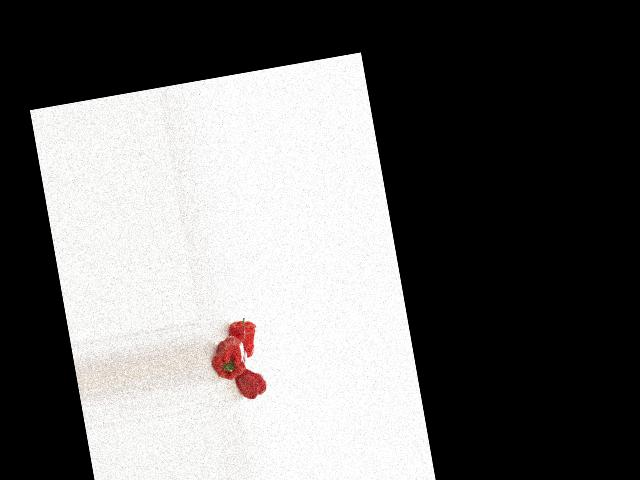bell_pepper: (232, 367, 269, 403)
